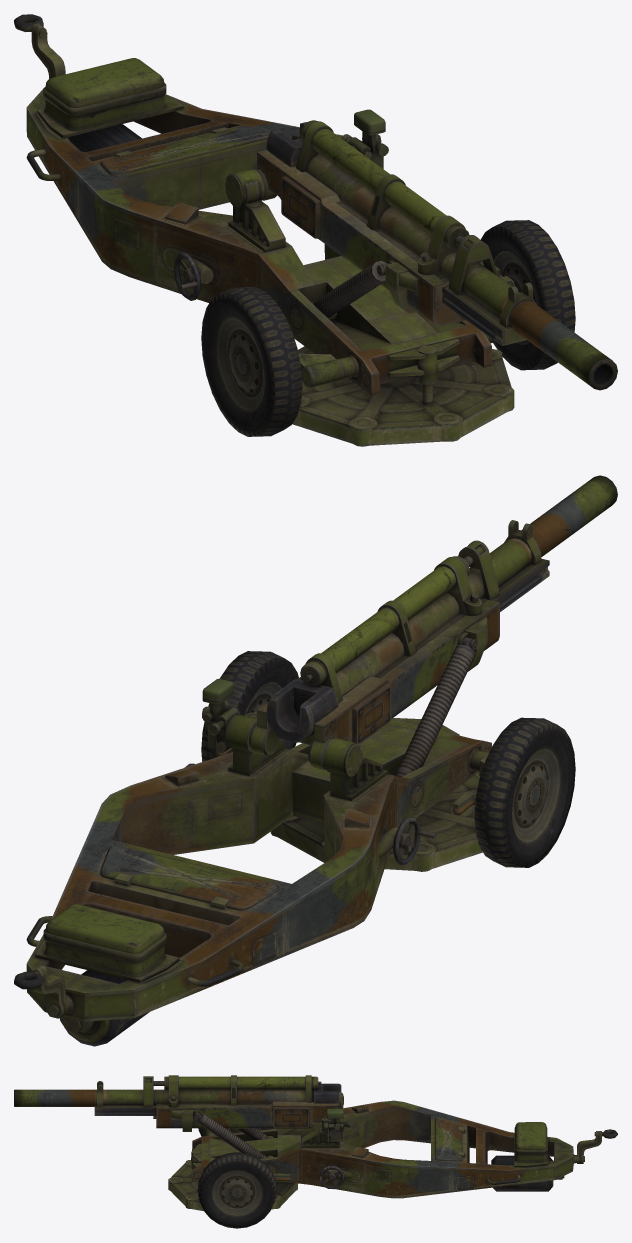
Rendered from m102_howitzer.glb.
3 views of the same model, one above another, from view 1: azimuth 30°, elevation 25°; view 2: azimuth 150°, elevation 25°; view 3: azimuth 270°, elevation 25° (orthographic). The views are drawn at different scales.
Visible parts, largest first — view 1: Object_3, Object_4; view 2: Object_3, Object_4; view 3: Object_3, Object_4.
Part boxes in pixels (x1,y1,x2,y2): Object_3: (26,23,536,446); Object_4: (14,14,617,436); Object_3: (26,520,549,1046); Object_4: (14,475,617,1032); Object_3: (94,1075,603,1224); Object_4: (14,1076,617,1228).
Size of what is drawn, in the model's own units: 211 by 149 by 704.
1 material, 1 textured.
